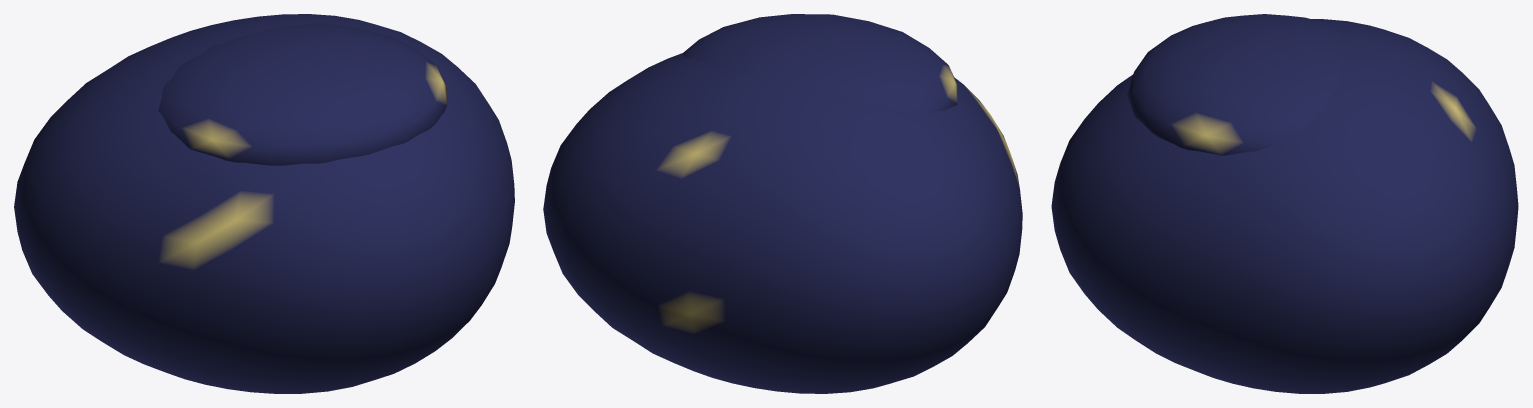
File: furn_beanbag.glb
The picture shows the model from 3 angles, left to right: view 1: azimuth 30°, elevation 25°; view 2: azimuth 150°, elevation 25°; view 3: azimuth 270°, elevation 25°; orthographic projection. The views are drawn at different scales.
Visible parts, largest first — view 1: furn_beanbag_main; view 2: furn_beanbag_main; view 3: furn_beanbag_main.
Part boxes in pixels (x1,y1,x2,y2): furn_beanbag_main: (14, 14, 514, 393); furn_beanbag_main: (543, 14, 1022, 393); furn_beanbag_main: (1051, 14, 1518, 393).
Size of the model in its own units: 0.7303 by 0.51 by 0.68.
